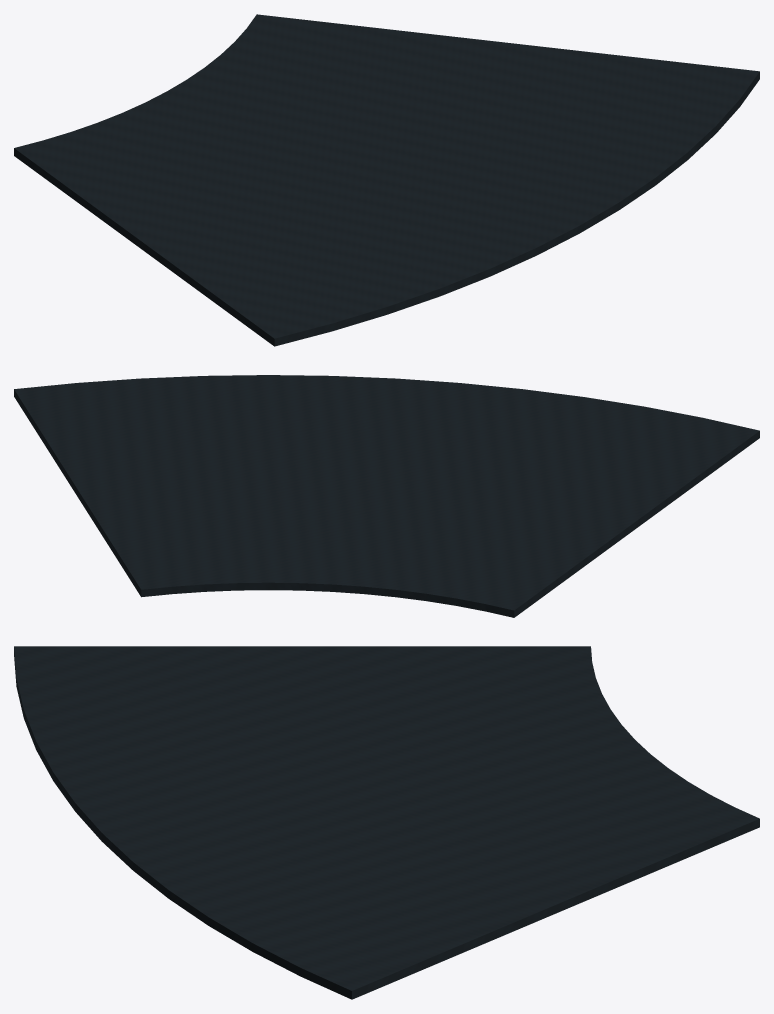
File: Transit_Road_4L_Curve45_R18_Surface.glb
3 views of the same model, one above another, from view 1: azimuth 30°, elevation 25°; view 2: azimuth 150°, elevation 25°; view 3: azimuth 270°, elevation 25° (orthographic). The views are drawn at different scales.
Visible parts, largest first — view 1: Transit_Road_4L_Curve45_R18_Surface; view 2: Transit_Road_4L_Curve45_R18_Surface; view 3: Transit_Road_4L_Curve45_R18_Surface.
Boxes of the visible parts, x1,y1,x2,y2 form: Transit_Road_4L_Curve45_R18_Surface: (14,14,759,346); Transit_Road_4L_Curve45_R18_Surface: (14,375,759,617); Transit_Road_4L_Curve45_R18_Surface: (14,646,759,999).
Size of the model in its own units: 16.97 by 0.2 by 15.51.
Materials: 1 (1 with a texture image).
